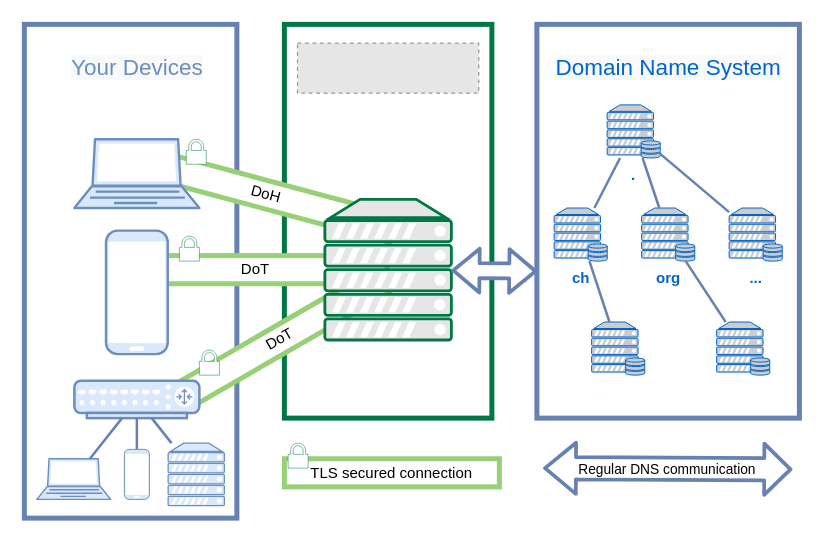
This 823x541 diagram has some shape labels left out. Grey dashed boxes stand in for pictures. The shapes that lost their labels are listed below. From the top down, each one's centre as x and y in pixels, then its label:
(387,269): Secure DNS Resolver
(617,348): digitale-gesellschaft
(742,348): wikipedia
